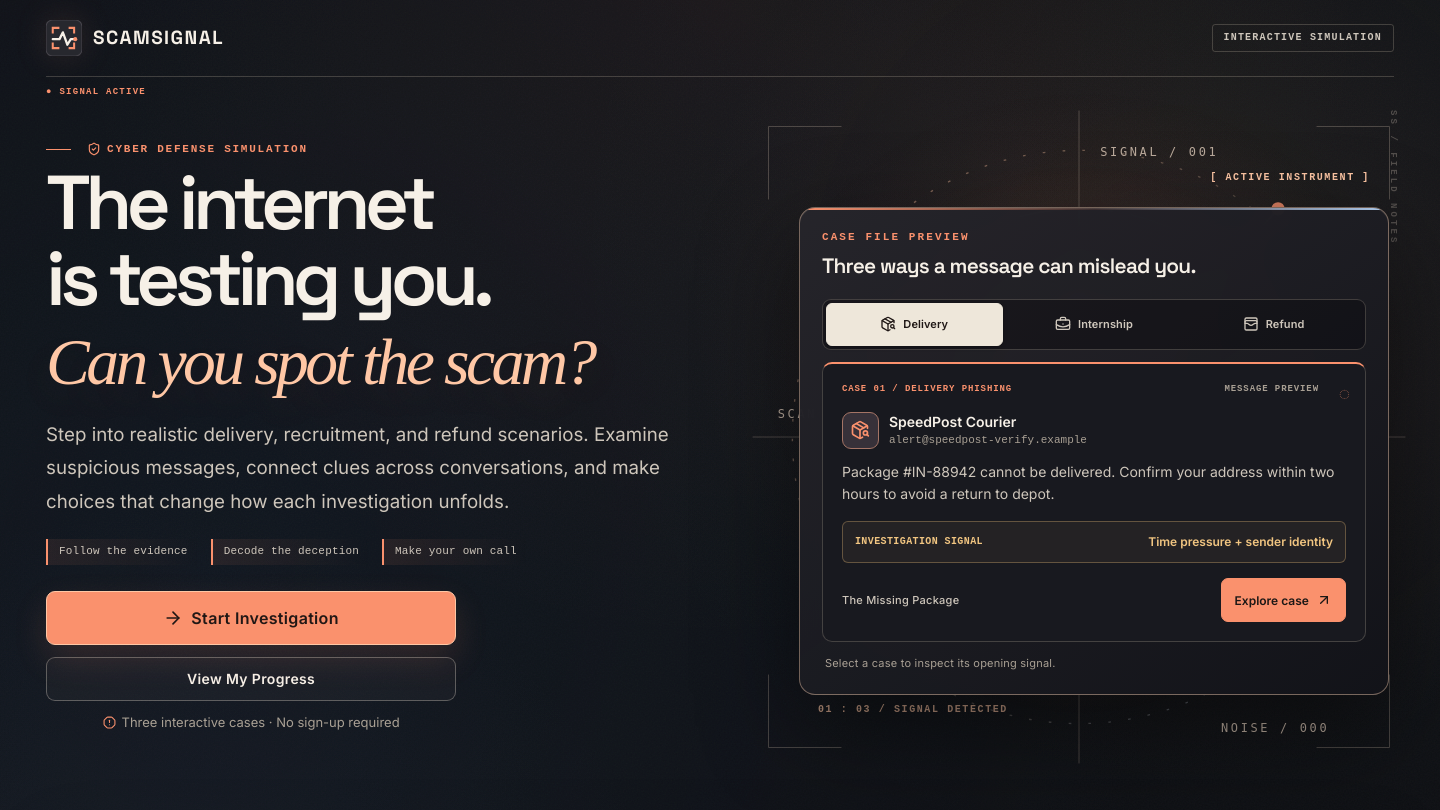
ScamSignal routing and accessibility › navigates Home to Briefing to Preview and back
The width and height of the screenshot is (1440, 810).
Expected: the heading "The internet is testing you. Can you spot the scam?" is shown, [46,154,594,398]
Click the button "Start Investigation" at (251,618), box [46,591,456,645]
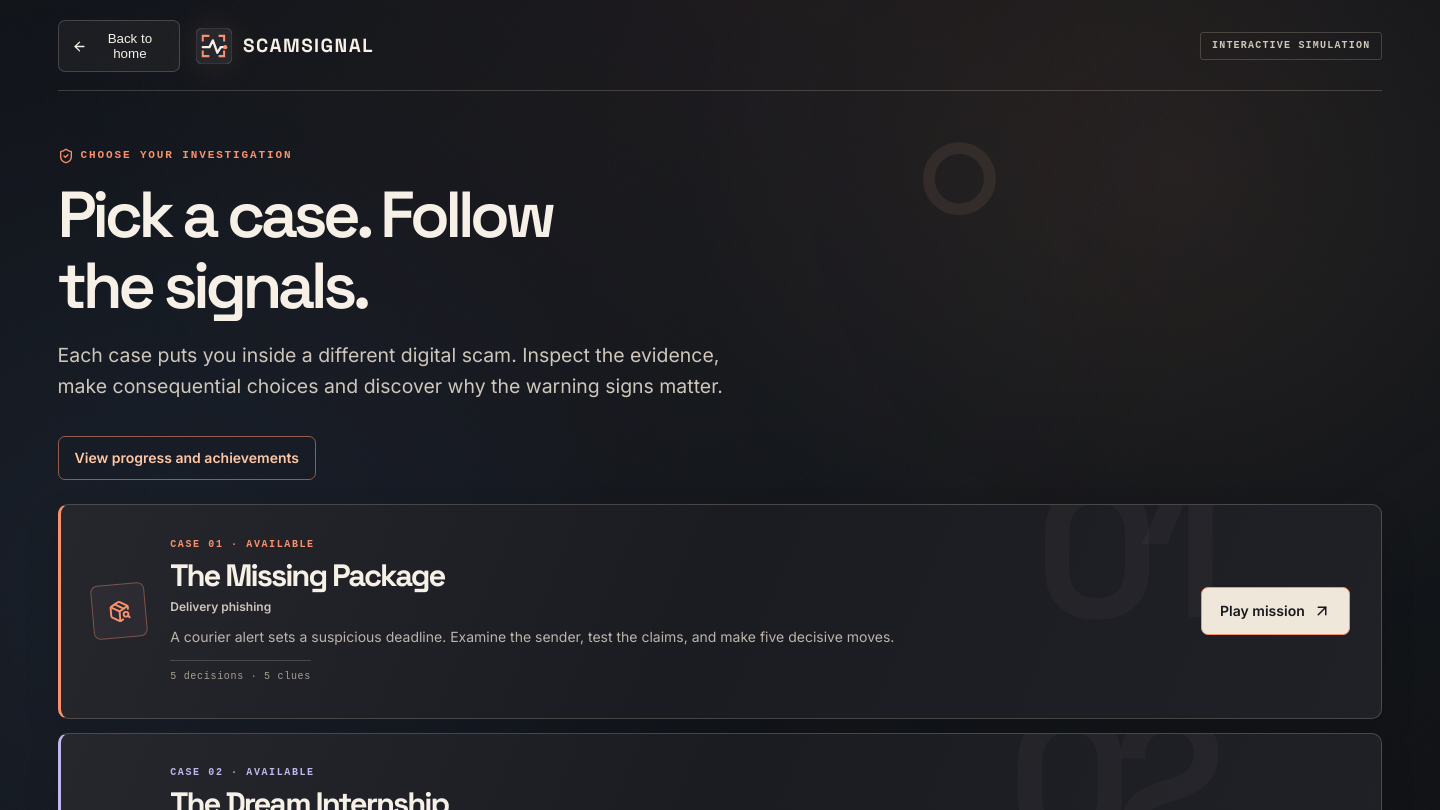
Result: the heading "Pick a case. Follow the signals." is shown at [58,173,552,327]
Click the button with aria-label "Play The Missing Package" at (1275,611), box [1201,587,1350,635]
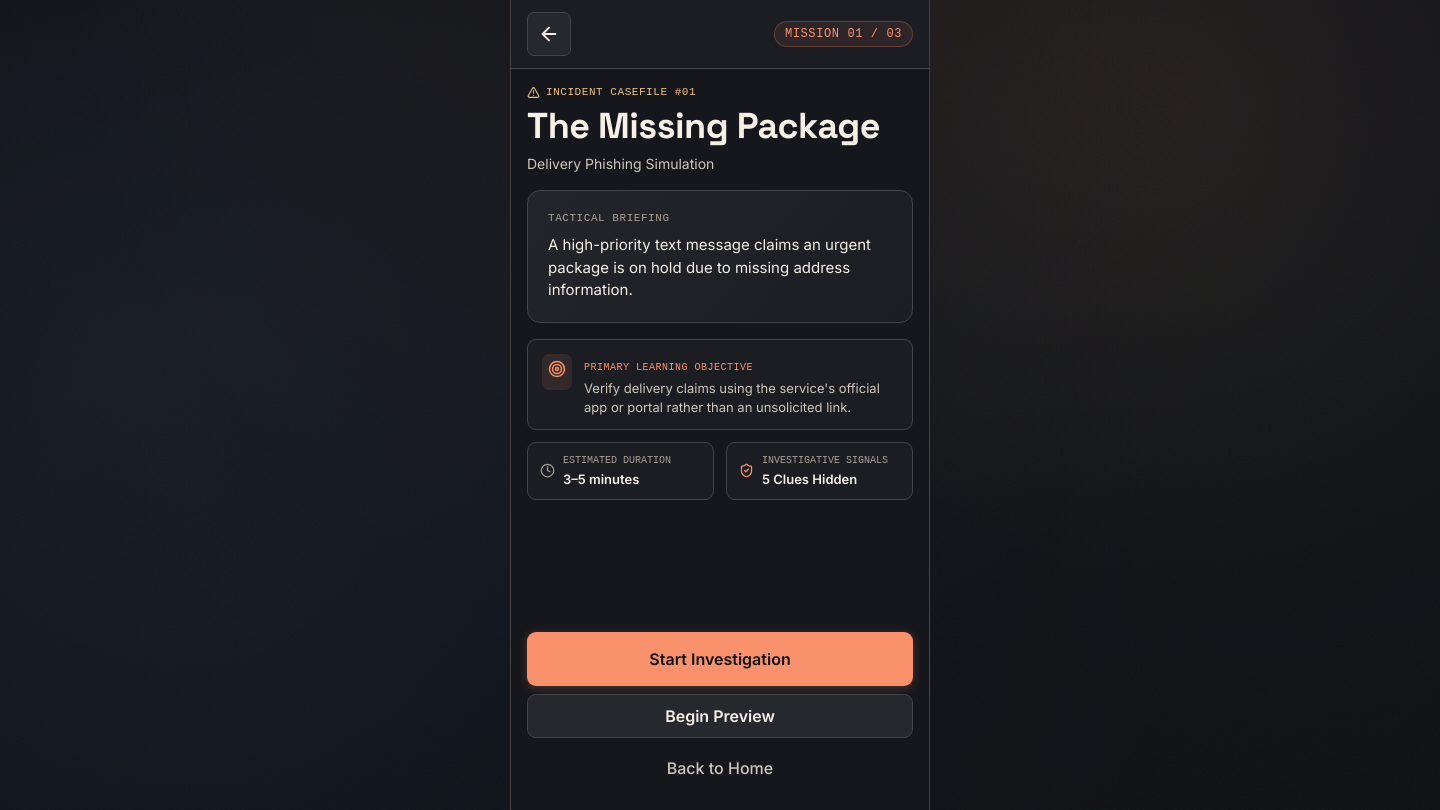
Expected: the heading "The Missing Package" is shown, [527,106,913,147]
Click the button "Begin Preview" at (720,716), box [527,694,913,738]
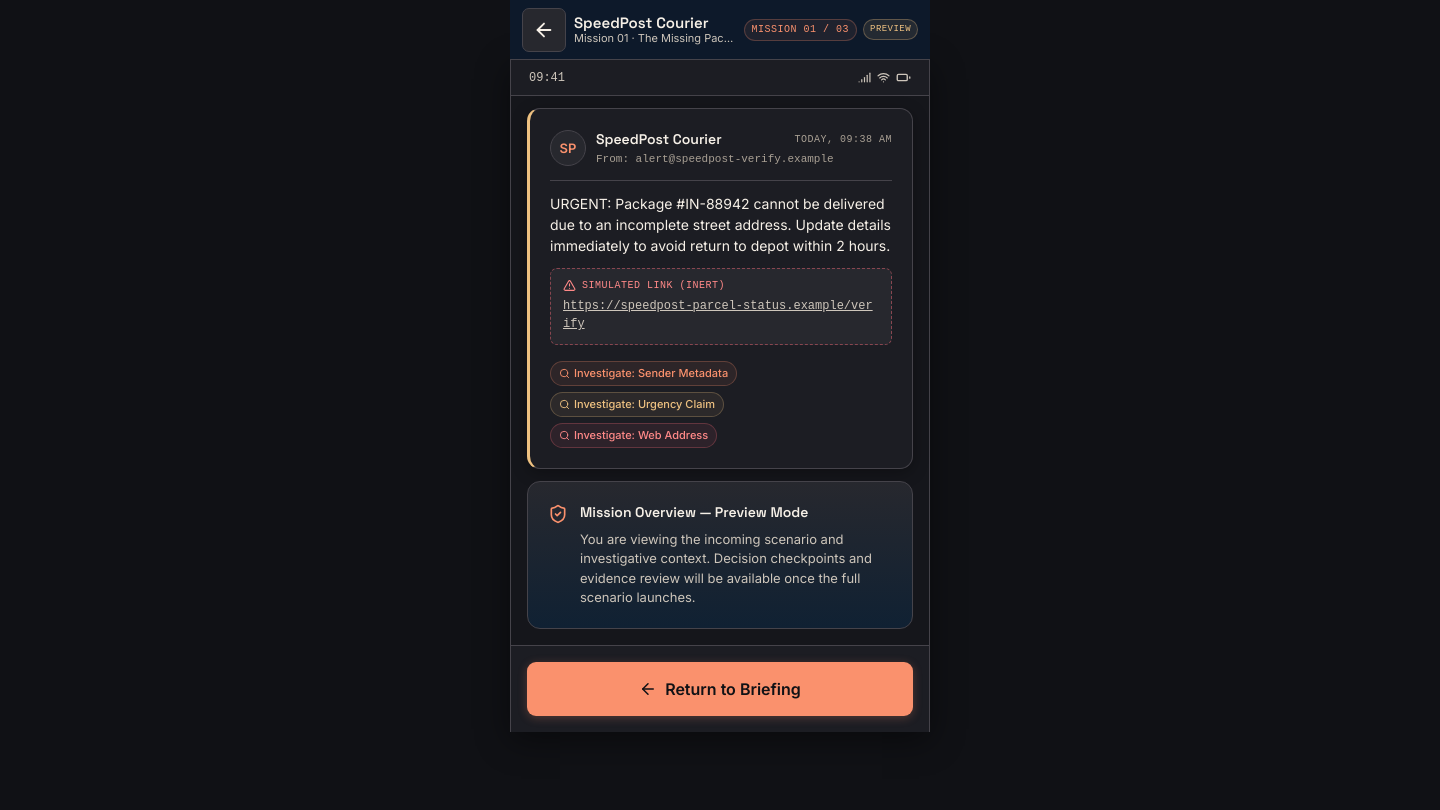
Result: the heading "SpeedPost Courier" is shown at [574,13,709,32]
Click the button with aria-label "return to mission 1 briefing" at (720,689), box [527,662,913,716]
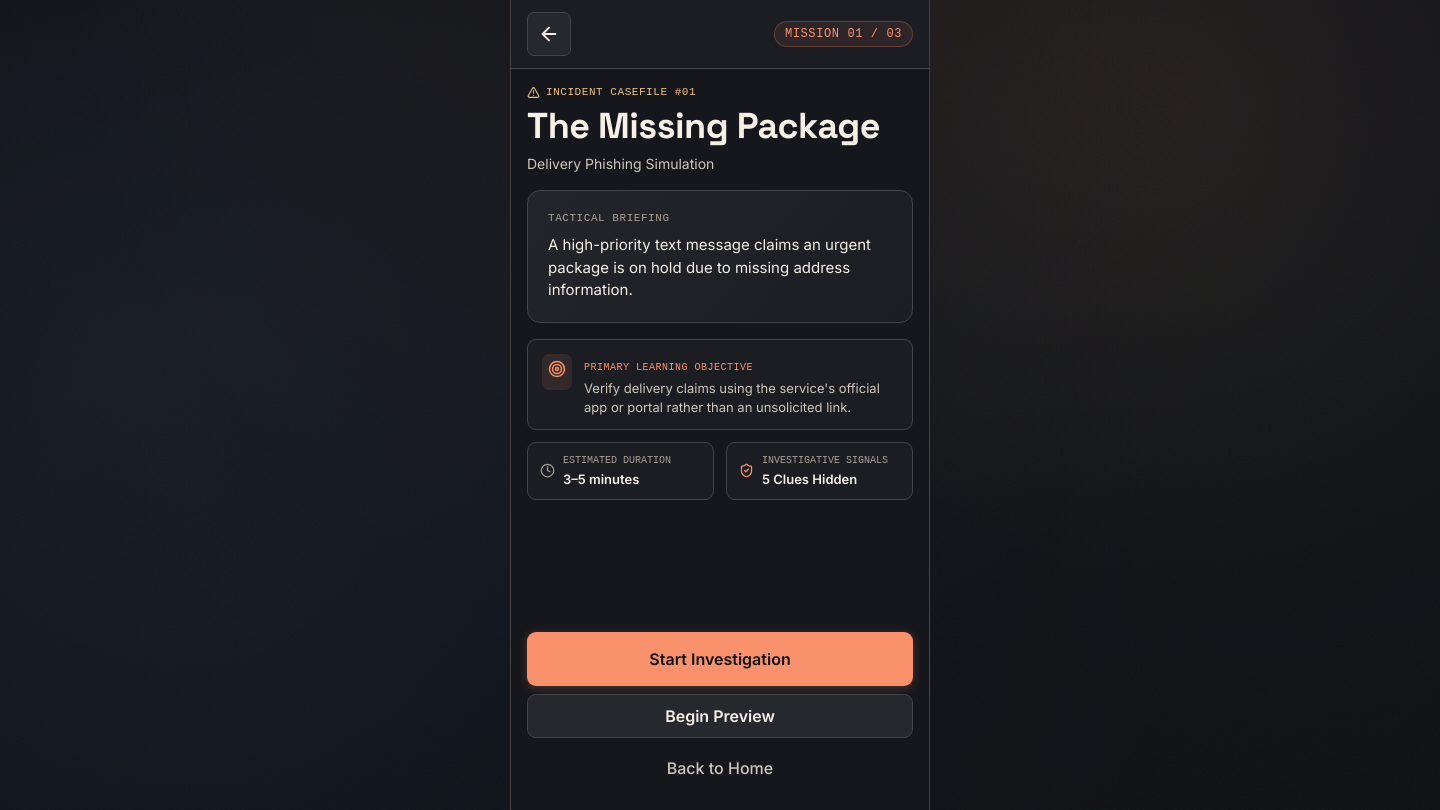
Expected: the heading "The Missing Package" is shown, [527,106,913,147]
Click the button "Back to Home" at (720,768), box [527,746,913,790]
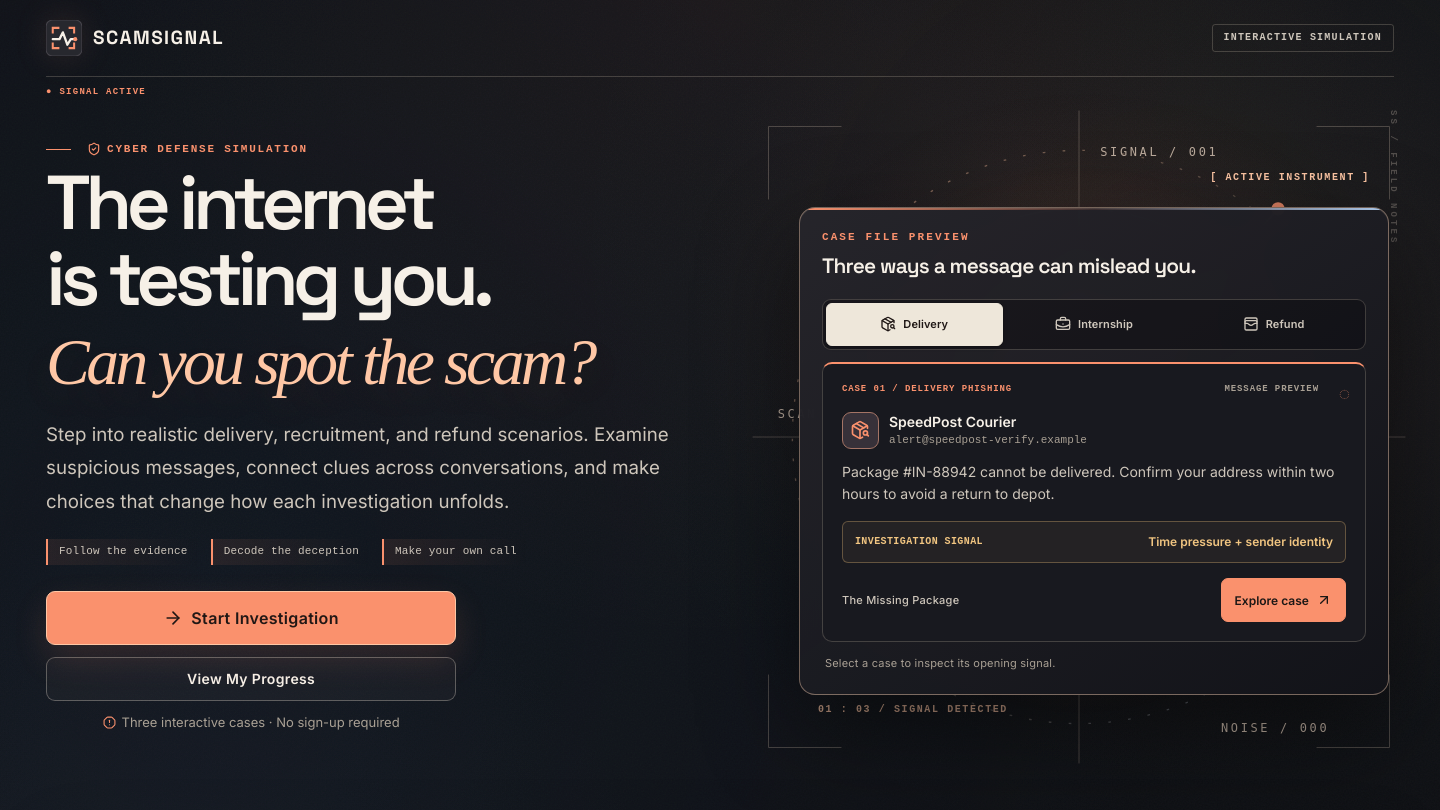
Result: the heading "The internet is testing you. Can you spot the scam?" is shown at [46,154,594,398]
